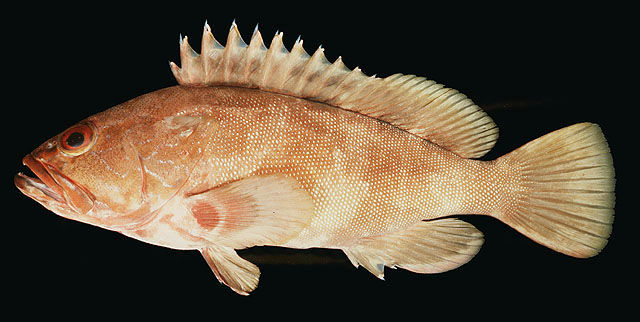fish: (14, 17, 616, 298)
